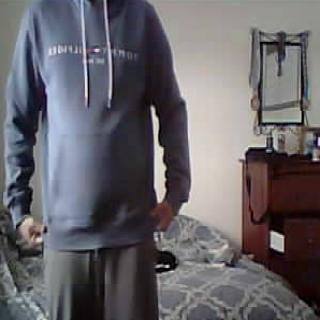Blue Hoodie: (1, 0, 189, 245)
Gray Sweatpants: (38, 240, 161, 320)
